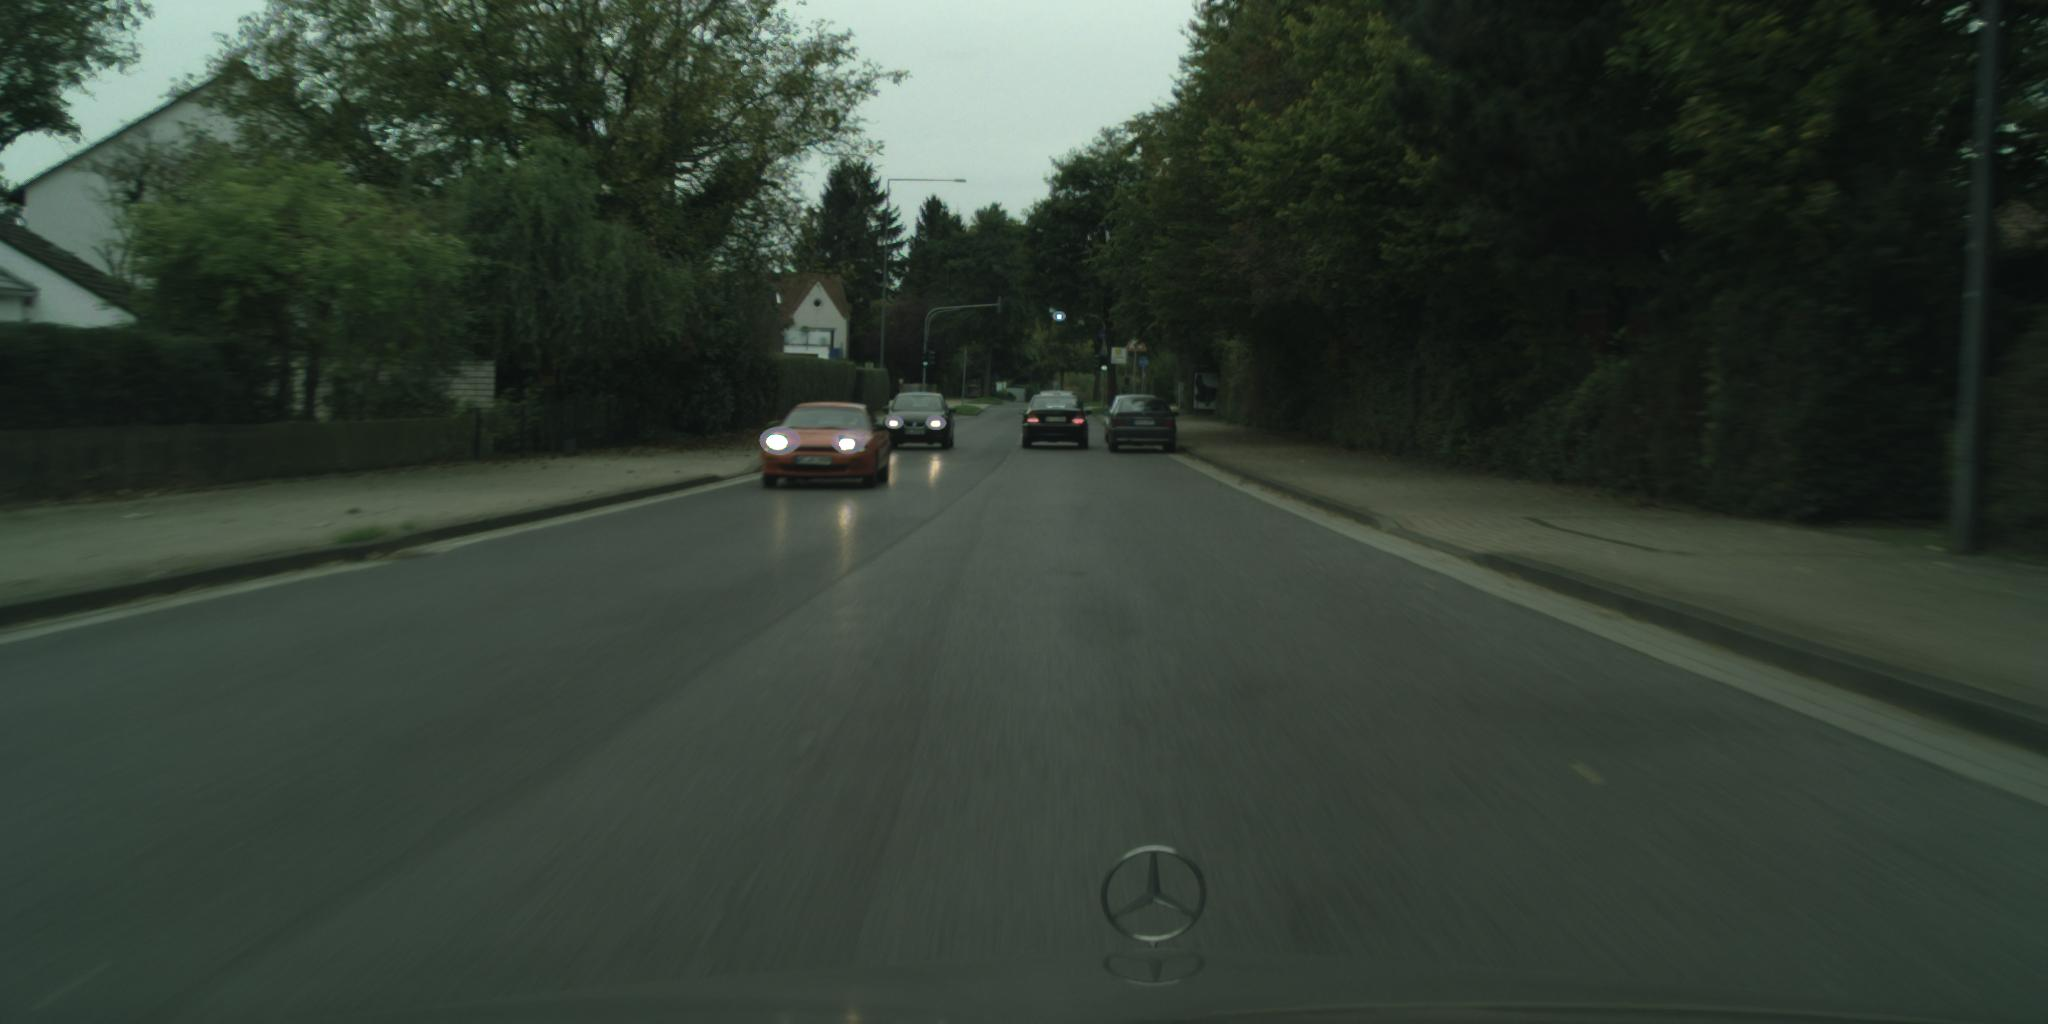car: (759, 404, 892, 488), (882, 392, 957, 451), (1104, 394, 1179, 453), (1020, 394, 1093, 449), (1038, 391, 1074, 411)
